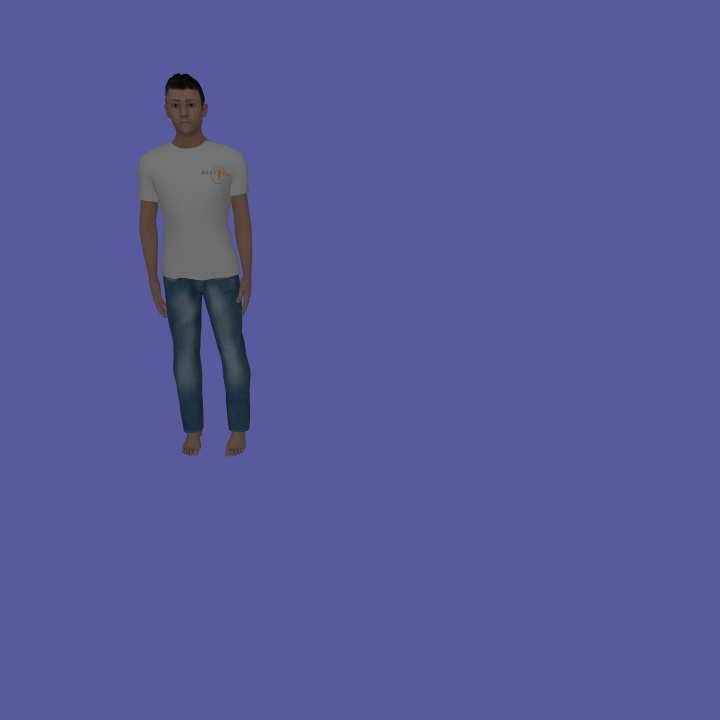victim: (135, 70, 257, 458)
